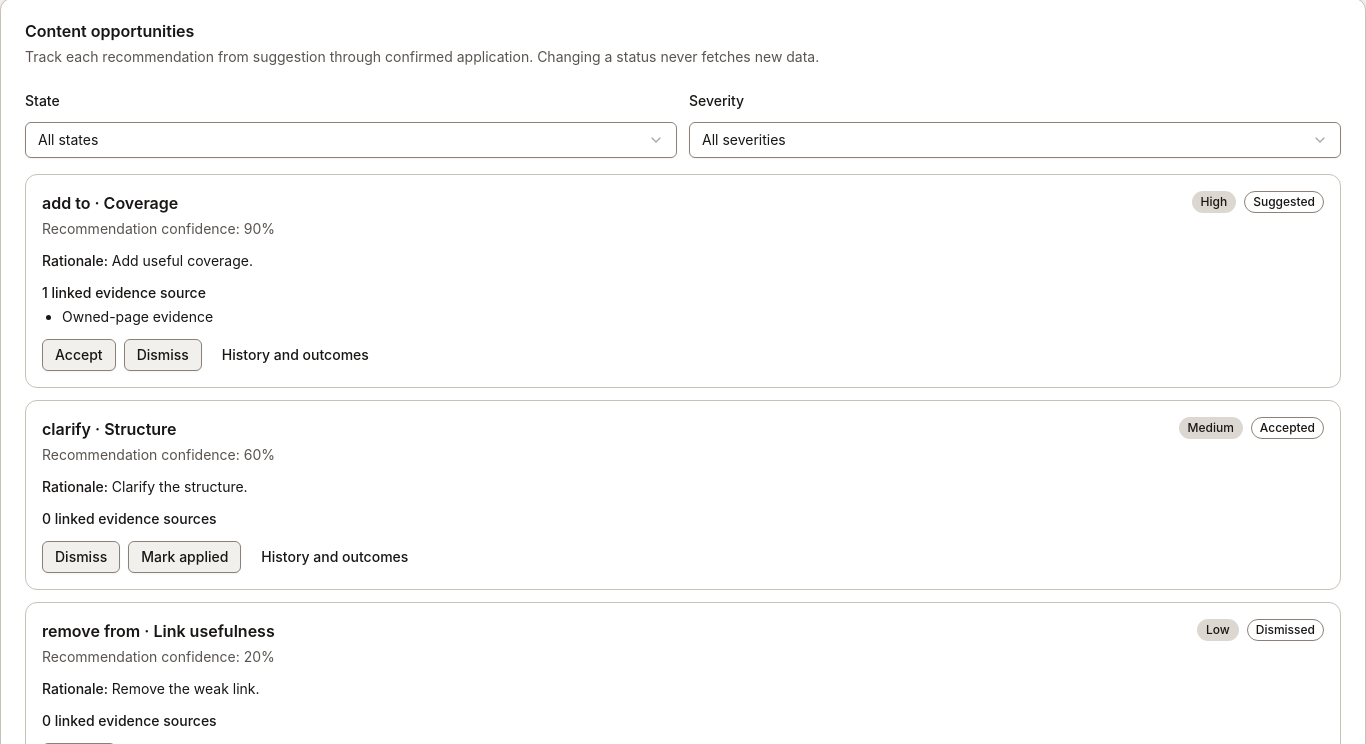
Test case: RecommendationWorkflow › keeps history visible when an outcome response has no view payload
Click the button "History and outcomes" below "Owned-page evidence" at (295, 355), box [210, 339, 381, 371]
(page scrolled)
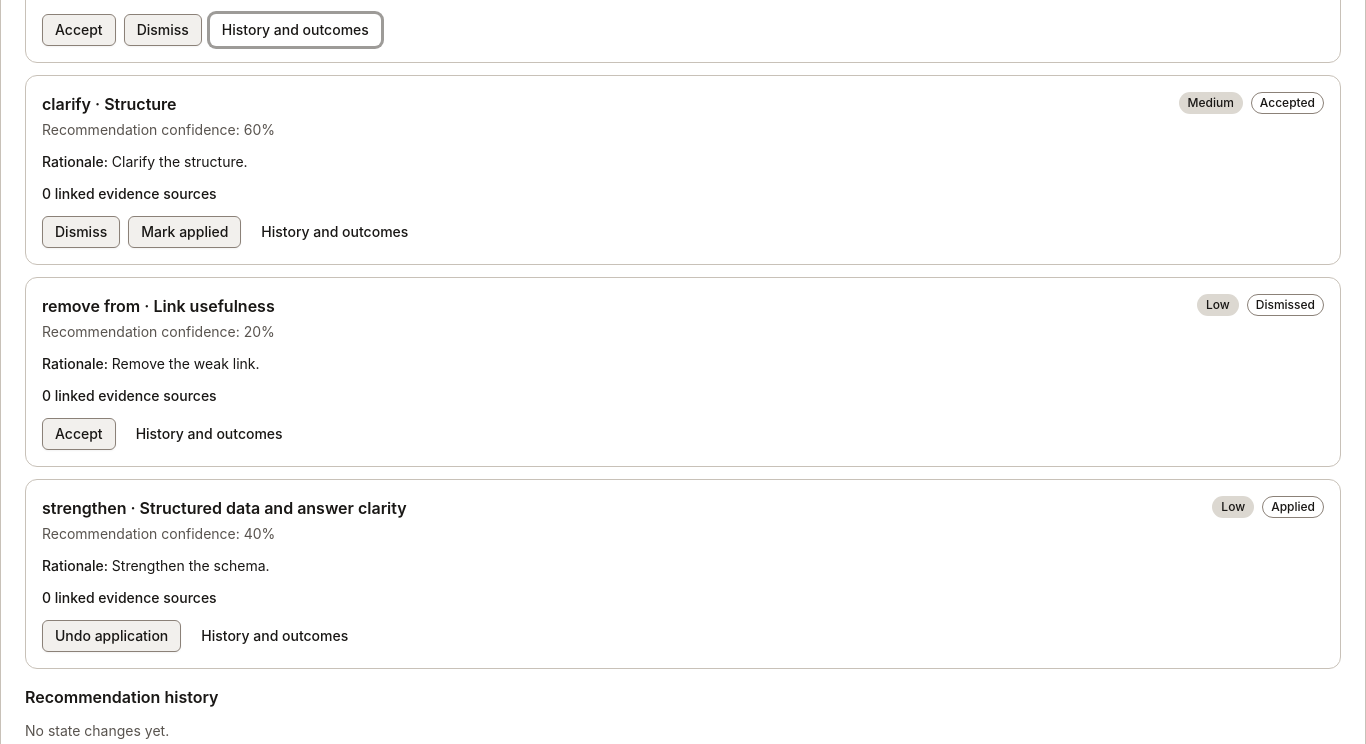
expect the text "No state changes yet." is shown: met, box [25, 722, 169, 739]
